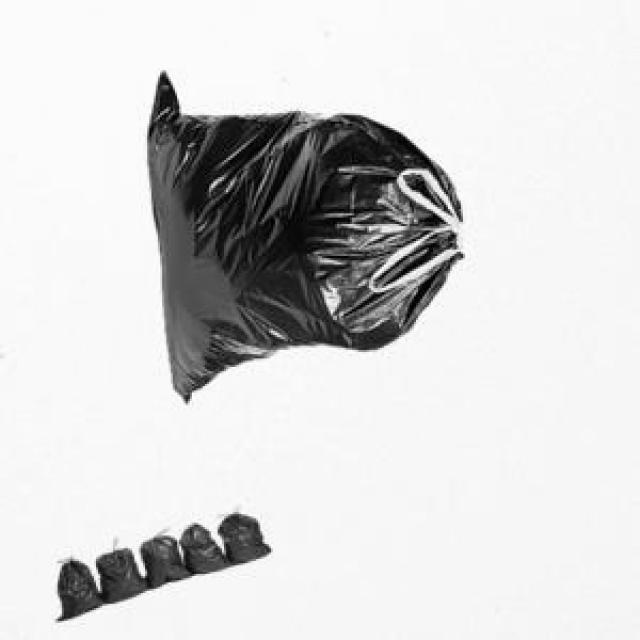miscellaneous trash: (145, 68, 459, 399), (53, 508, 267, 617)
